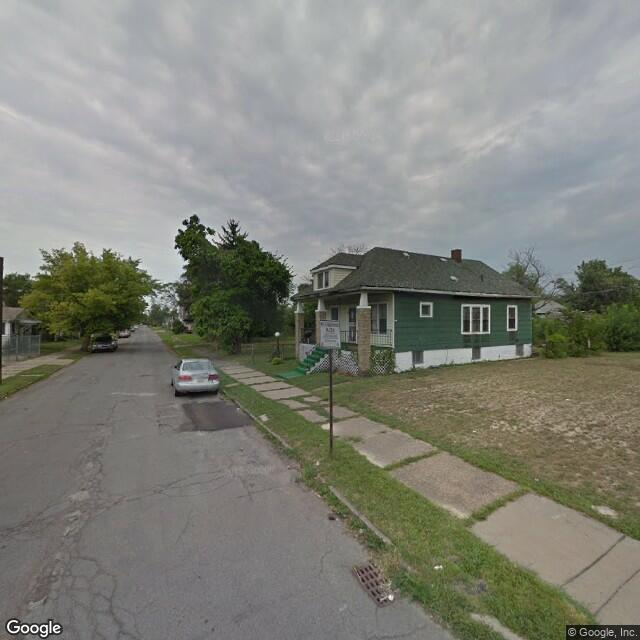litter: (433, 560, 444, 573), (386, 590, 394, 601), (314, 459, 320, 468)
